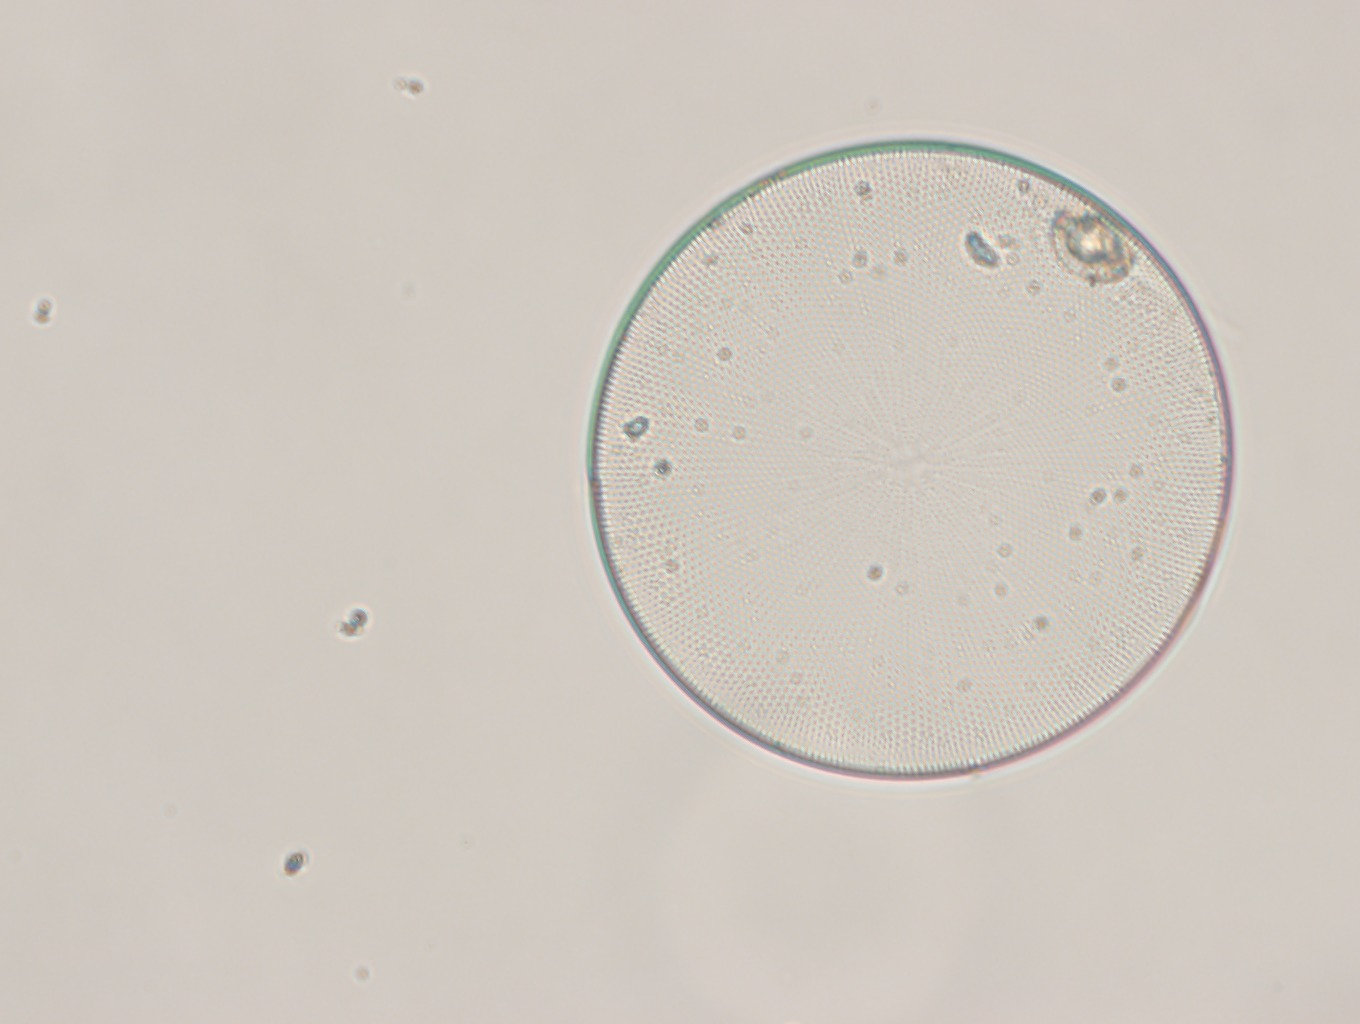coscinodiscus: (577, 131, 1242, 794)
